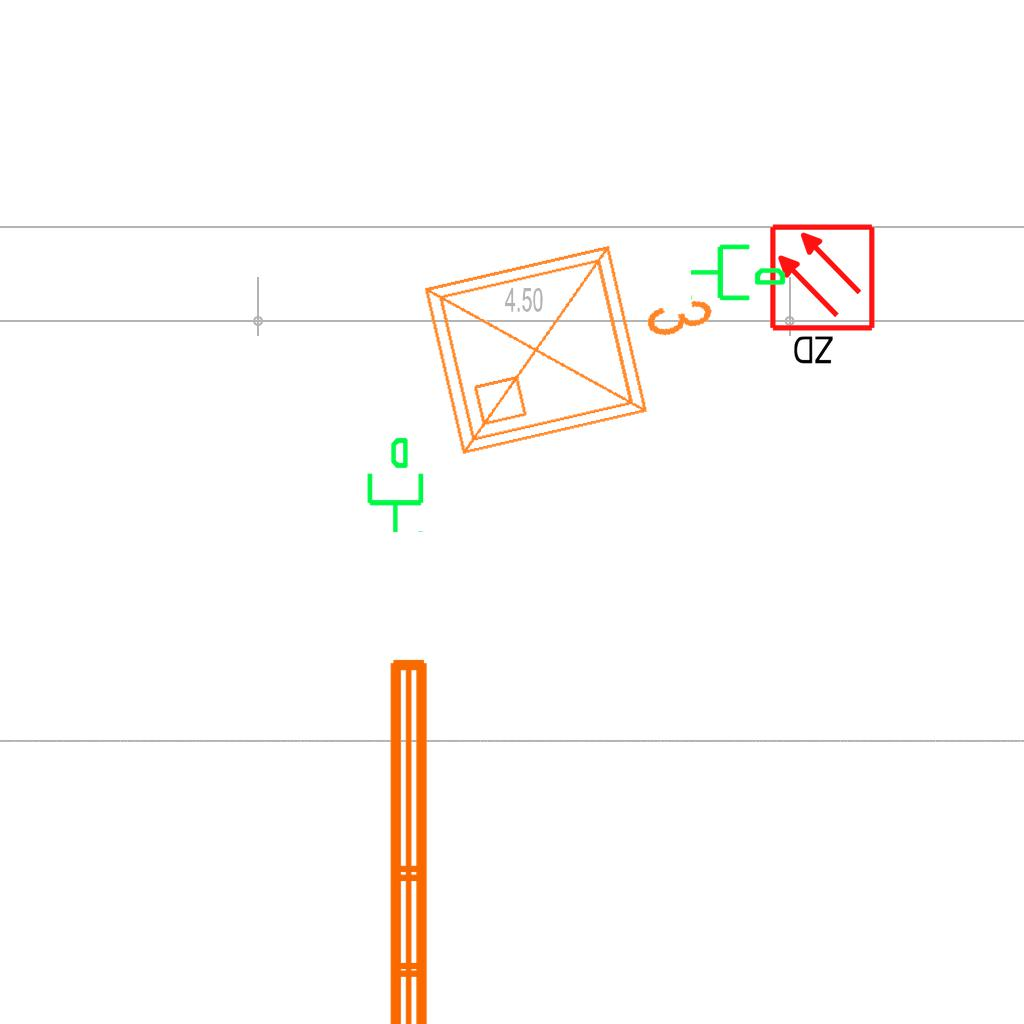Ambulanz_Pendelleuchte_LED: (378, 649, 490, 1024)
Datenanschluss_einfach: (688, 236, 788, 305), (359, 435, 428, 535)
Einbaudownlights_LED_Konferenzraeume: (405, 201, 745, 473)
ZD_Melder_in_Zwischendecke_mit_Revisionsoeffnung_mind_40_x_40_cm: (767, 222, 881, 371)
